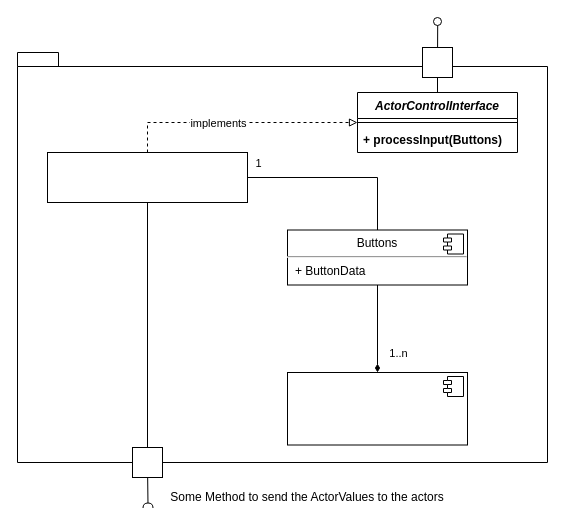
The diagram is 565 pixels wide and 530 high, and some of its shapes have lost their labels. Here are the shapes that lost their labels. From the top down, the box of each, then its label:
(46, 152, 248, 202): ActorController + processInput(buttons: Buttons)
(286, 372, 468, 445): ButtonData + ID: int + Value: int
